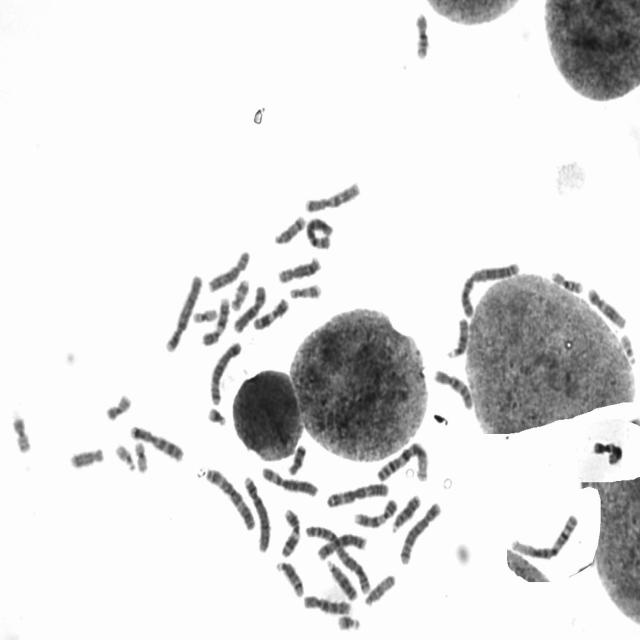A1: (506, 508, 579, 561), (374, 437, 431, 484)
A2: (302, 520, 372, 596), (456, 256, 522, 319)
A3: (202, 462, 256, 530), (323, 476, 391, 508)
B4: (161, 268, 203, 354), (240, 470, 272, 553)
B5: (396, 496, 443, 566), (205, 336, 244, 406)
C10: (430, 363, 475, 411), (299, 590, 353, 616)
C11: (249, 292, 291, 332), (276, 503, 302, 559)
C12: (584, 282, 628, 330), (592, 436, 632, 471)
C6: (258, 461, 320, 498), (302, 212, 335, 250)
C7: (126, 419, 185, 464), (301, 176, 362, 214)
C8: (204, 245, 252, 293), (274, 251, 323, 285)
C9: (350, 493, 399, 529), (199, 292, 231, 346)
D13: (323, 555, 359, 601), (388, 489, 422, 534)
D14: (272, 556, 305, 598), (270, 210, 307, 245)
D15: (361, 569, 396, 607), (444, 313, 471, 360)
E16: (547, 265, 585, 295), (411, 7, 431, 61)
E17: (227, 274, 251, 312), (286, 279, 323, 300)
E18: (65, 441, 106, 470), (284, 439, 308, 477)
F19: (131, 436, 149, 474), (189, 302, 219, 324)
F20: (8, 408, 33, 454), (102, 388, 134, 422)
G21: (203, 402, 228, 427), (334, 610, 362, 632)
G22: (111, 438, 137, 472), (618, 329, 638, 365)
X: (230, 280, 268, 334), (314, 528, 368, 561)
